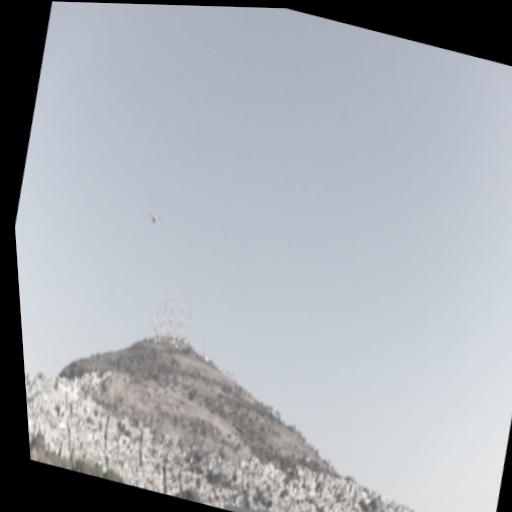drones: (143, 210, 165, 232)
